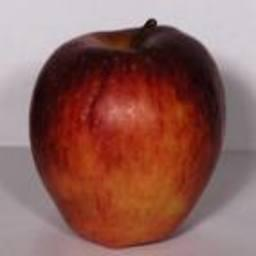apple: (26, 22, 225, 249)
